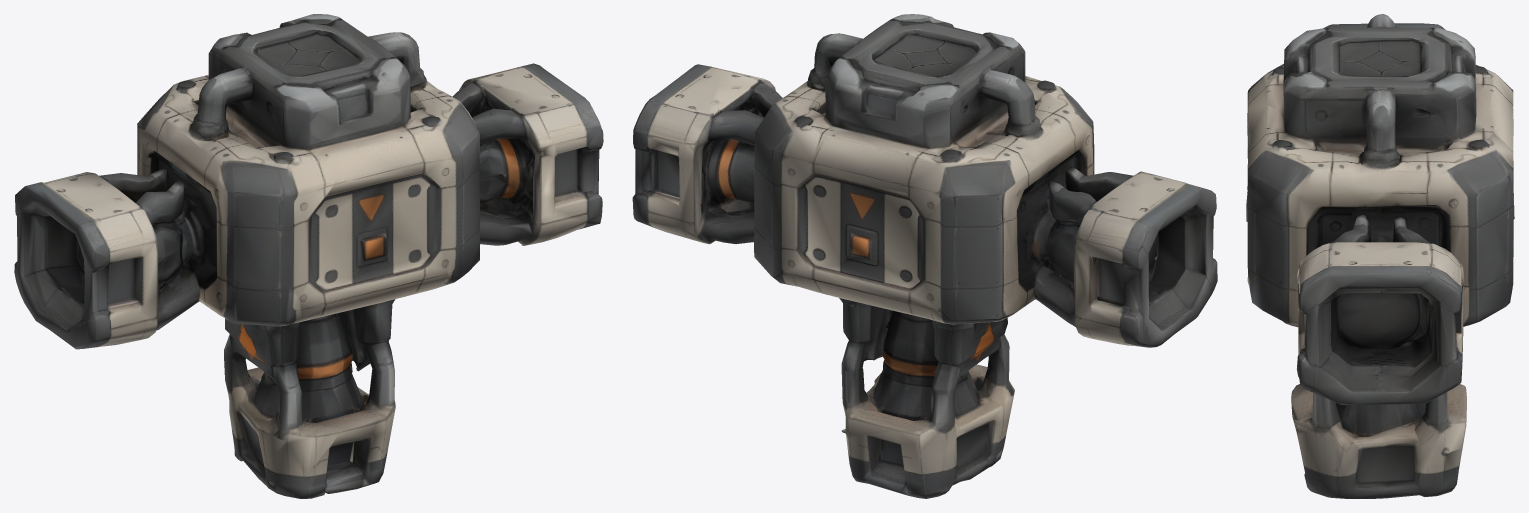
Rendered from Meshy_AI_Twin_Arm_Constructor__0806095200_texture.fbx.
The picture shows the model from 3 angles, left to right: view 1: azimuth 30°, elevation 25°; view 2: azimuth 150°, elevation 25°; view 3: azimuth 270°, elevation 25°; orthographic projection.
Parts seen in each view (by area): view 1: Mesh_0; view 2: Mesh_0; view 3: Mesh_0.
Part boxes in pixels (box(x1,y1,x2,y2)): Mesh_0: box(14, 14, 603, 498); Mesh_0: box(632, 14, 1217, 498); Mesh_0: box(1246, 14, 1514, 498).
Bounding box in the file's own units: 200 × 156 × 89.71.
Materials: 1 (1 with a texture image).
